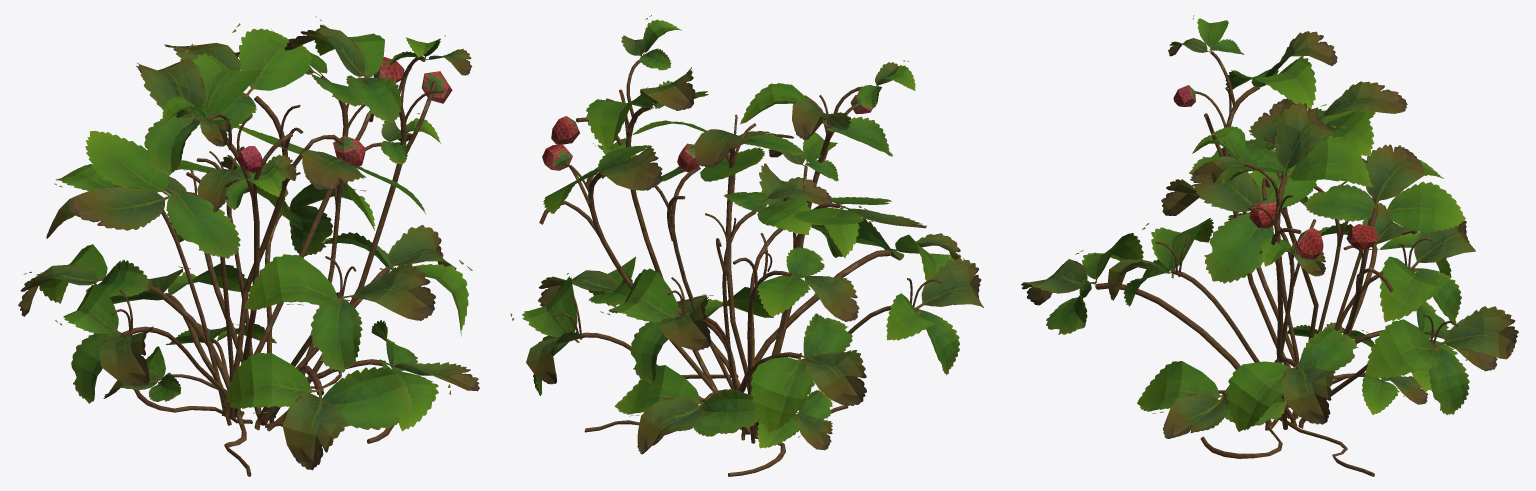
Rendered from P_Herb_00103.obj.
The picture shows the model from 3 angles, left to right: view 1: azimuth 30°, elevation 25°; view 2: azimuth 150°, elevation 25°; view 3: azimuth 270°, elevation 25°; orthographic projection. The views are drawn at different scales.
Size of the model in its own units: 0.9858 by 0.8894 by 1.16.
1 material, 1 textured.
